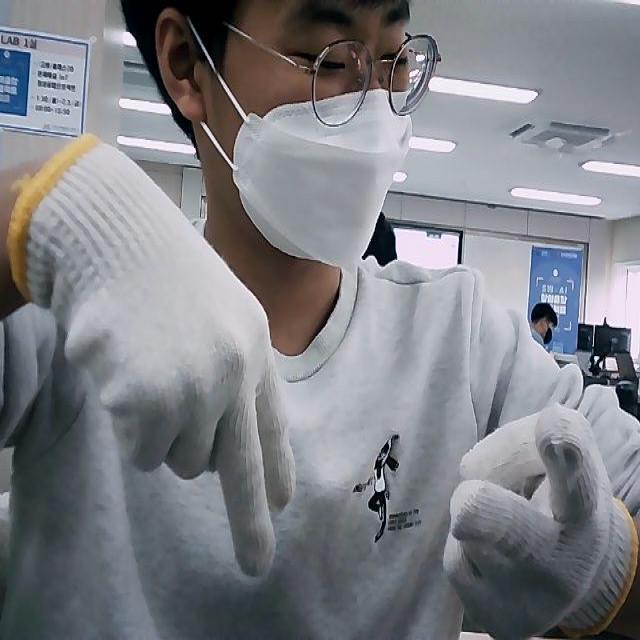gloves: (6, 129, 298, 578), (441, 402, 638, 640)
